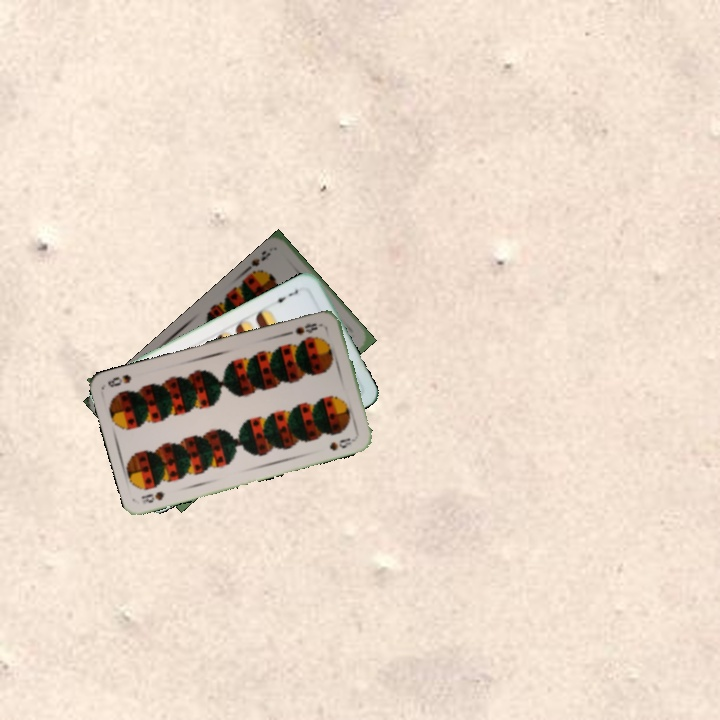E7: (269, 284, 301, 305)
S8: (292, 319, 325, 338), (137, 487, 168, 507)
S9: (240, 246, 273, 280)
